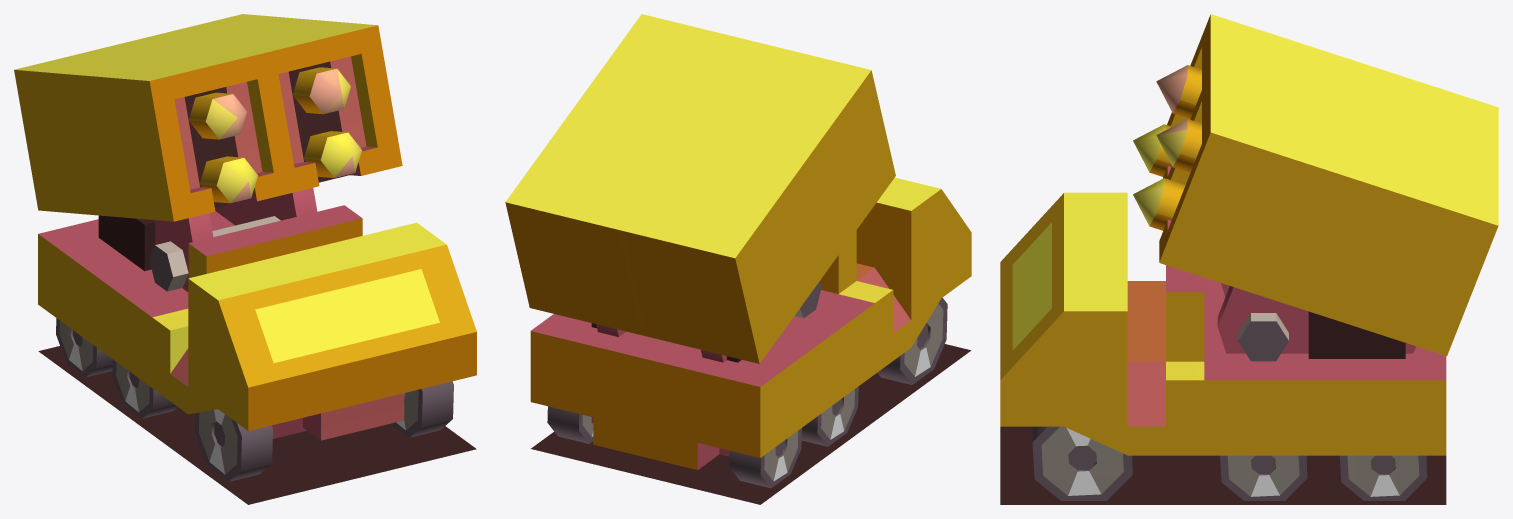
File: RocketMesh.YellowComet.glb
3 renders of one model, left to right at view 1: azimuth 30°, elevation 25°; view 2: azimuth 150°, elevation 25°; view 3: azimuth 270°, elevation 25°, orthographic. The views are drawn at different scales.
Parts seen in each view (by area): view 1: RocketMesh.YellowComet; view 2: RocketMesh.YellowComet; view 3: RocketMesh.YellowComet.
Boxes of the visible parts, bbox=[...] form: RocketMesh.YellowComet: bbox=[14, 14, 476, 504]; RocketMesh.YellowComet: bbox=[505, 14, 971, 504]; RocketMesh.YellowComet: bbox=[1000, 14, 1498, 504].
Bounding box in the file's own units: 1.1 × 1.63 × 1.96.
Materials: 1 (1 with a texture image).
